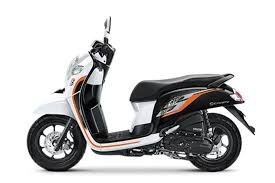motor: (24, 39, 251, 172)
